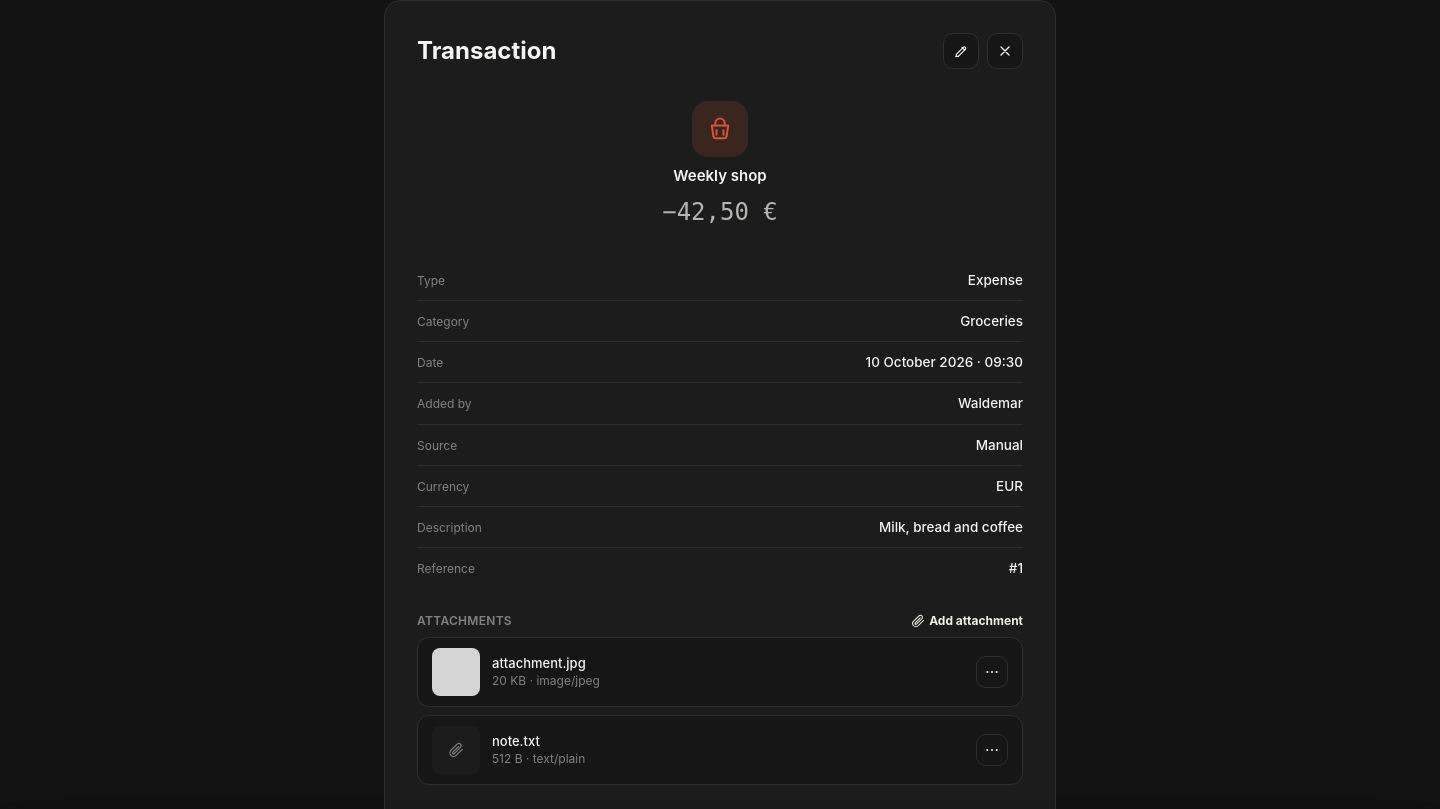
Scenario: TransactionDetailPage › opens edit mode, patches the changed fields, and returns to the read-only view
Expected: the text "Weekly shop" is shown, [673,165,767,188]
Click the button named "Edit": (961, 51) [943,33,979,69]
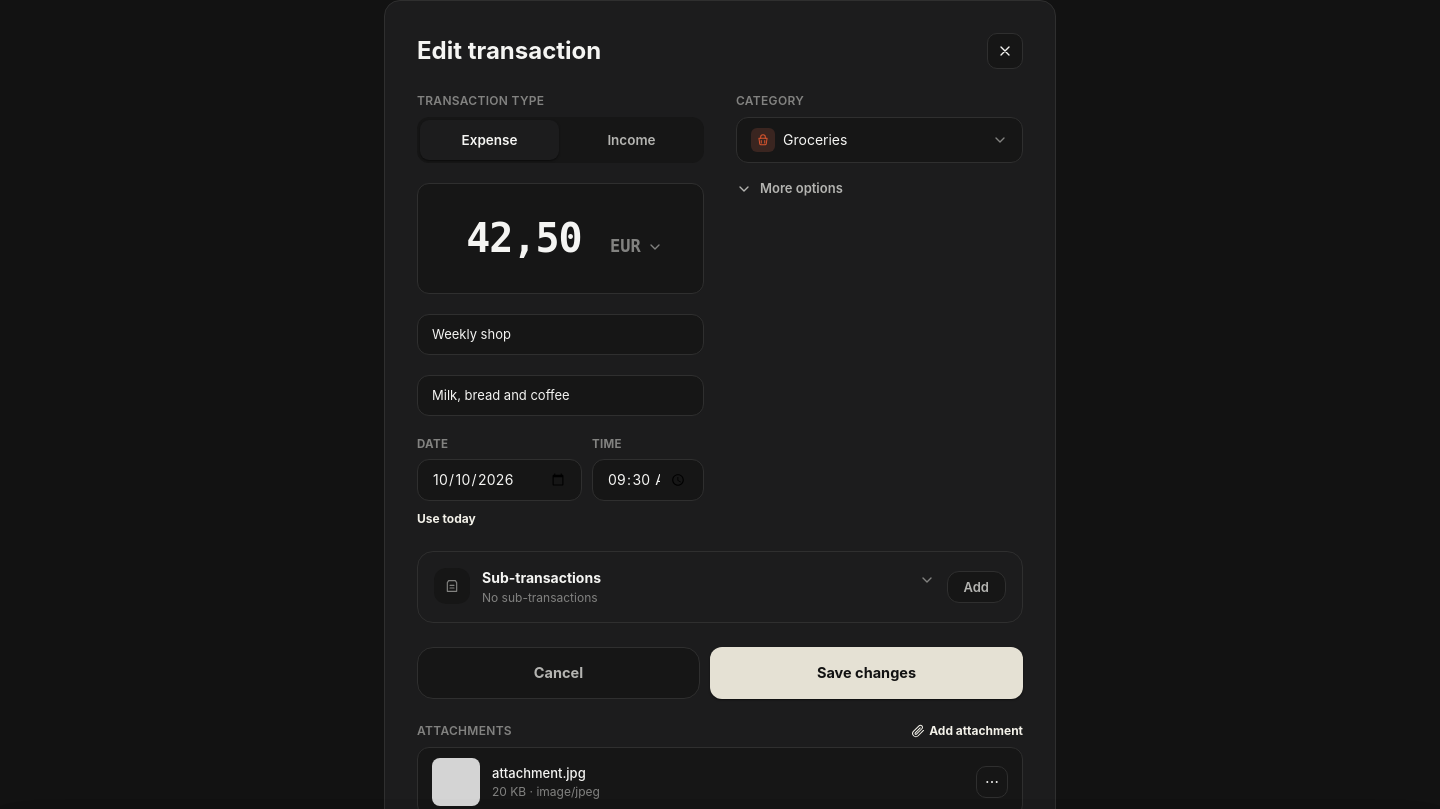
Expected: the field named "Transaction name" holds "Weekly shop"
Expected: the button "Cancel" is shown, [417,648,700,699]
Replace the text in the field named "Transaction name" with "Big shop": (560, 335) [417,314,704,355]
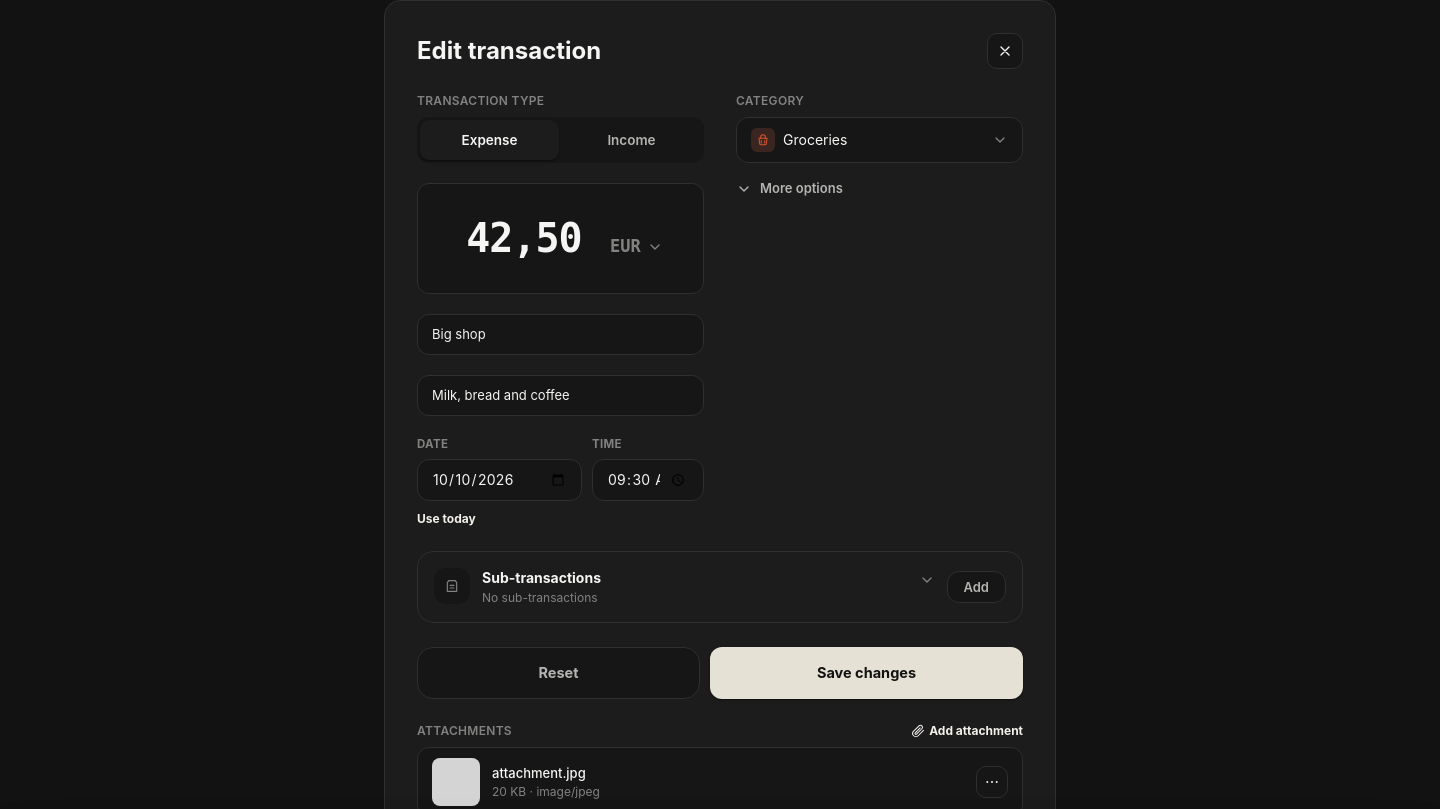
Expected: the button "Reset" is shown, [417,648,700,699]
Click the button "Save changes": (866, 673) [710,648,1023,699]
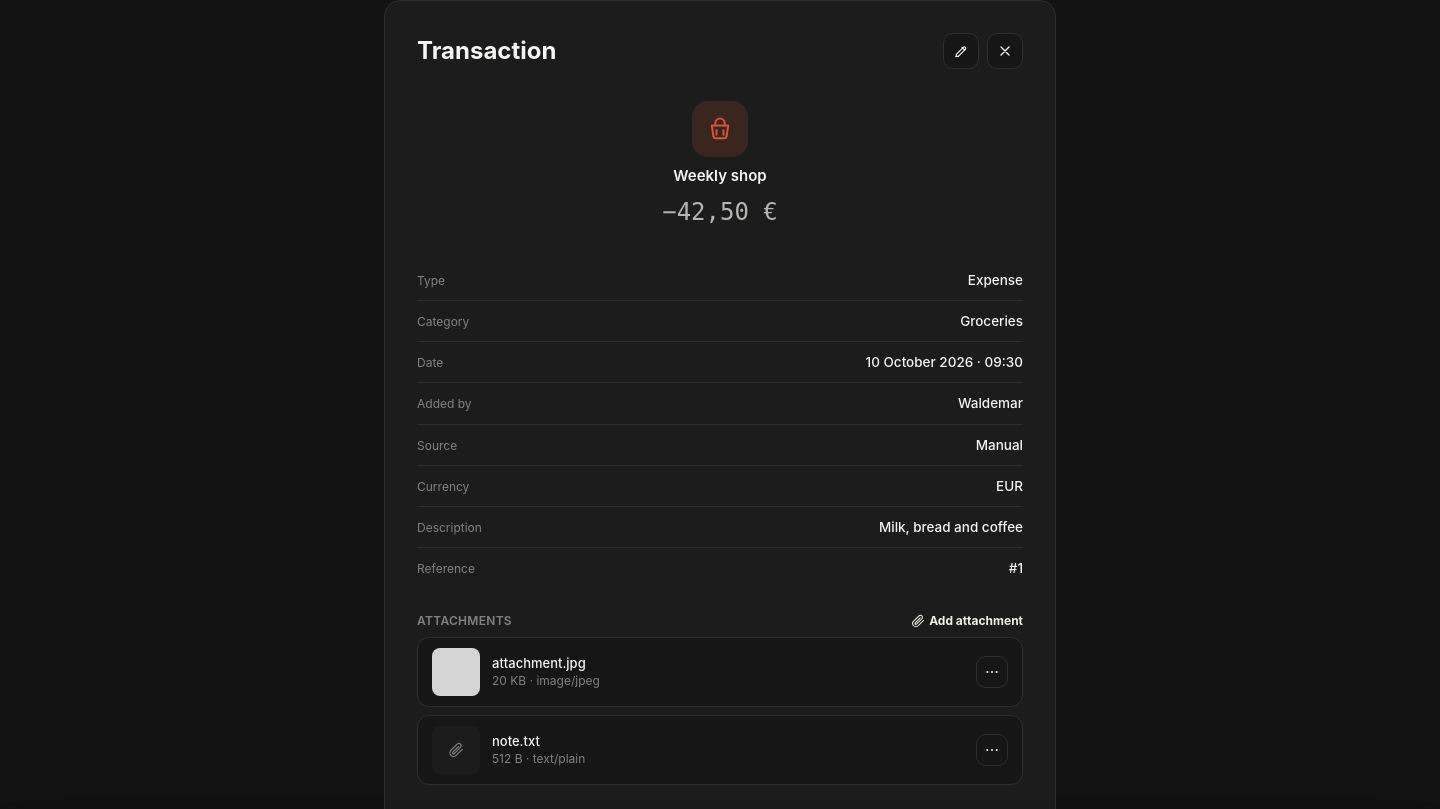
Expected: the text "Weekly shop" is shown, [673,165,767,188]
